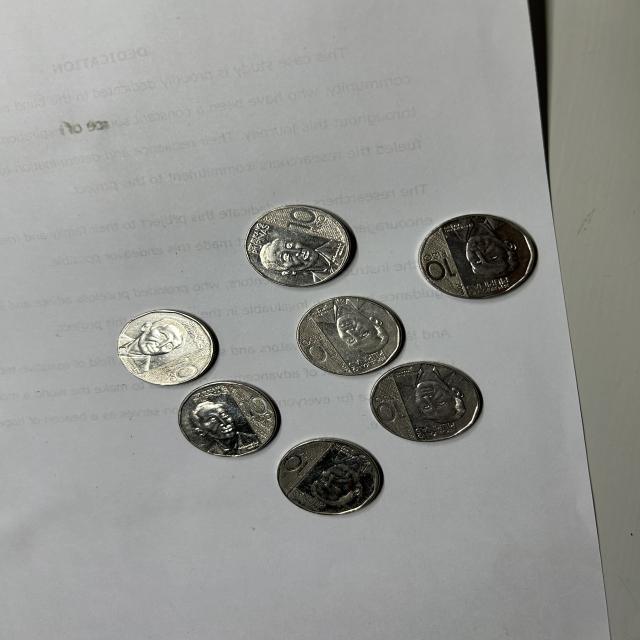10_New_Front: (370, 388, 418, 427), (419, 243, 458, 284), (280, 445, 318, 478), (299, 336, 339, 366), (158, 357, 203, 383), (238, 394, 269, 429), (282, 208, 318, 235)
